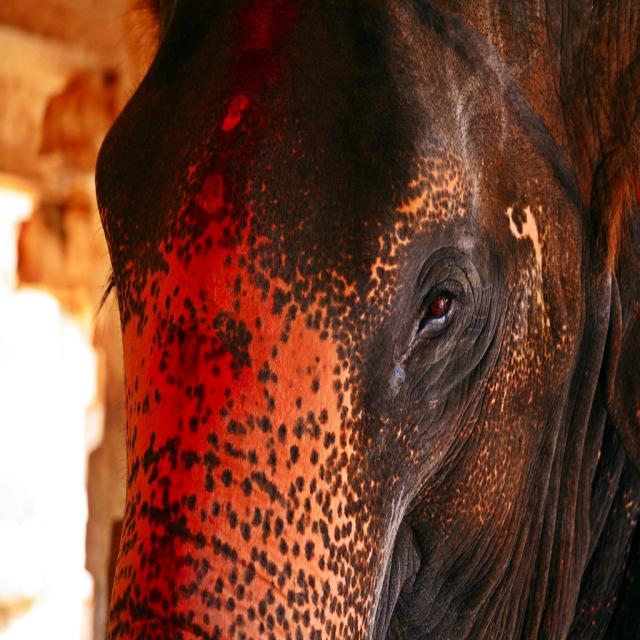Elephant: (48, 0, 638, 640)
